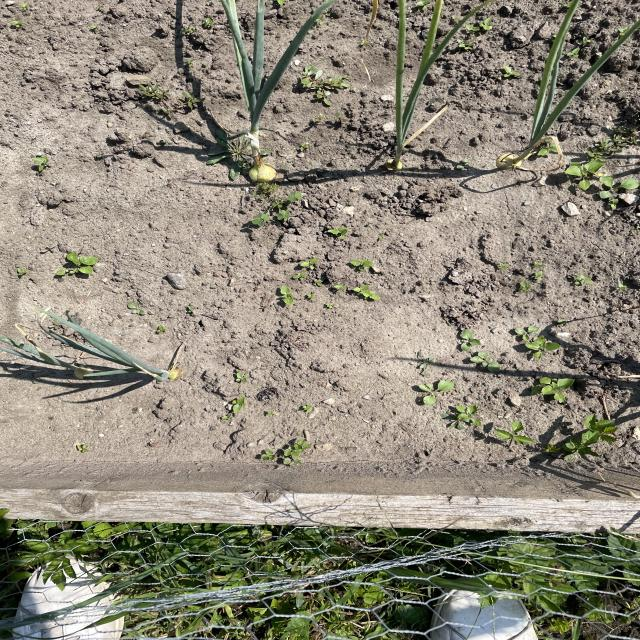Onion: (495, 10, 640, 169), (382, 0, 471, 174), (244, 0, 312, 188), (0, 322, 187, 386)
weed: (563, 161, 640, 217), (553, 414, 618, 468), (532, 371, 588, 414), (454, 328, 502, 376), (40, 252, 109, 284), (262, 437, 320, 475), (512, 322, 557, 359), (408, 383, 459, 411), (488, 423, 537, 452), (446, 402, 484, 434)
